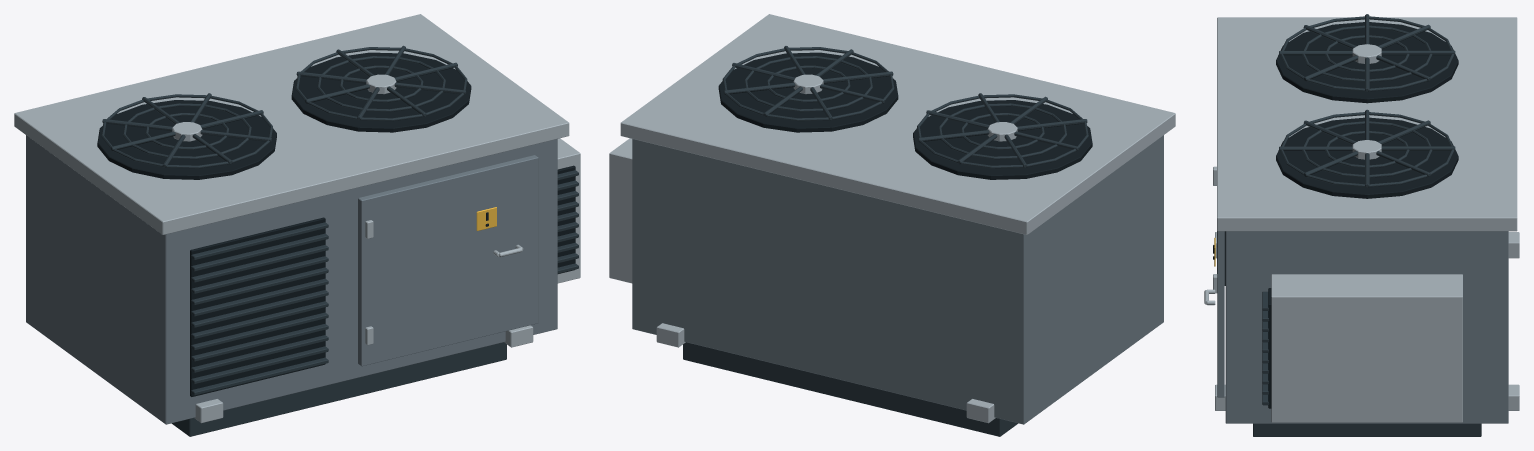
File: b05_rooftop_packaged_hvac.glb
3 renders of one model, left to right at view 1: azimuth 30°, elevation 25°; view 2: azimuth 150°, elevation 25°; view 3: azimuth 270°, elevation 25°, orthographic.
Parts seen in each view (by area): view 1: b05_rooftop_packaged_hvac; view 2: b05_rooftop_packaged_hvac; view 3: b05_rooftop_packaged_hvac.
Part boxes in pixels (left/top/right/bottom): b05_rooftop_packaged_hvac: left=14, top=14, right=580, bottom=436; b05_rooftop_packaged_hvac: left=609, top=14, right=1175, bottom=436; b05_rooftop_packaged_hvac: left=1204, top=14, right=1519, bottom=436.
Bounding box in the file's own units: 2.38 × 1.3 × 1.45.
